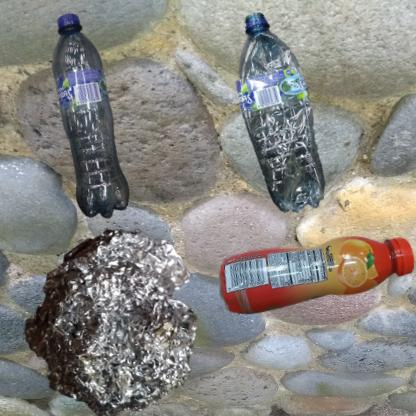aluminio: (10, 213, 219, 416)
botella: (10, 10, 189, 252), (213, 10, 365, 236), (213, 213, 416, 345)
